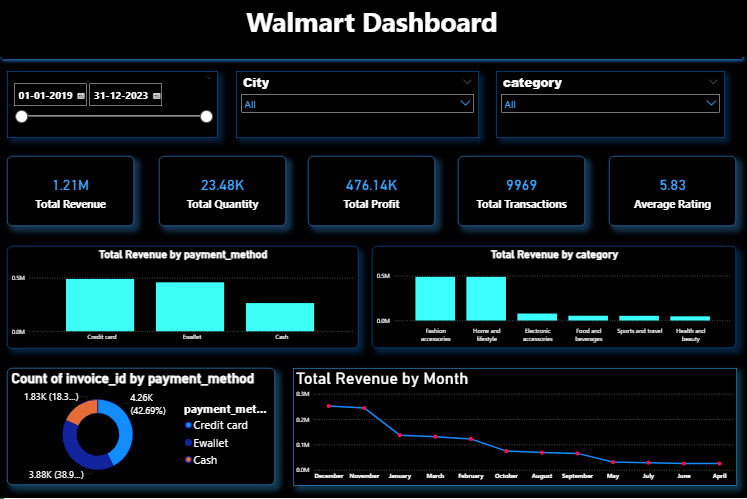

Layout of this report page (visuals, bound fields, positions):
{"tool":"powerbi","page":{"name":"Page 1","canvas":[1700,1200],"ordinal":0},"visuals":[{"type":"shape","box":[0,0,1500,128],"z":0},{"type":"textbox","box":[0,0,1500,114.2],"z":1000},{"type":"card","fields":{"Values":["walmartproject1.Total Quantity"]},"box":[324.8,311,253.9,139.8],"z":2000},{"type":"card","fields":{"Values":["walmartproject1.Total Profit"]},"box":[622,311,253.9,139.8],"z":3000},{"type":"card","fields":{"Values":["walmartproject1.Total Transactions"]},"box":[921.3,311,253.9,139.8],"z":4000},{"type":"card","fields":{"Values":["walmartproject1.Average Rating"]},"box":[1224.4,311,253.9,139.8],"z":5000},{"type":"card","fields":{"Values":["walmartproject1.Total Revenue"]},"box":[19.7,311,253.9,139.8],"z":6000},{"type":"slicer","fields":{"Values":["walmartproject1.City"]},"box":[478.3,141.7,486.2,133.9],"z":7000},{"type":"slicer","fields":{"Values":["walmartproject1.date"]},"box":[19.7,141.7,421.3,133.9],"z":8000},{"type":"slicer","fields":{"Values":["walmartproject1.category"]},"box":[997.5,142.5,457.5,132.5],"z":9000},{"type":"columnChart","fields":{"Category":["walmartproject1.payment_method"],"Y":["walmartproject1.Total Revenue"]},"box":[19.7,492.1,702.8,204.7],"z":10000},{"type":"columnChart","fields":{"Y":["walmartproject1.Total Revenue"],"Category":["walmartproject1.category"]},"box":[750,492,728,204],"z":10001},{"type":"donutChart","fields":{"Category":["walmartproject1.payment_method"],"Y":["CountNonNull(walmartproject1.invoice_id)"]},"box":[20,736,536,234],"z":10003},{"type":"lineChart","fields":{"Category":["walmartproject1.Month"],"Y":["walmartproject1.Total Revenue"]},"box":[592.5,735,887.5,235],"z":10004}]}

Visuals, with their boxes on the page's 1700x1200 design canvas (x1, y1, x2, y2). These are canvas units, not pixel positions in the 747x499 screenshot, which may show the page scaled, cropped or inside an application window:
shape: left=0, top=0, right=1500, bottom=128
textbox: left=0, top=0, right=1500, bottom=114
card - walmartproject1.Total Quantity: left=325, top=311, right=579, bottom=451
card - walmartproject1.Total Profit: left=622, top=311, right=876, bottom=451
card - walmartproject1.Total Transactions: left=921, top=311, right=1175, bottom=451
card - walmartproject1.Average Rating: left=1224, top=311, right=1478, bottom=451
card - walmartproject1.Total Revenue: left=20, top=311, right=274, bottom=451
slicer - walmartproject1.City: left=478, top=142, right=964, bottom=276
slicer - walmartproject1.date: left=20, top=142, right=441, bottom=276
slicer - walmartproject1.category: left=998, top=142, right=1455, bottom=275
columnChart - walmartproject1.payment_method x walmartproject1.Total Revenue: left=20, top=492, right=722, bottom=697
columnChart - walmartproject1.Total Revenue x walmartproject1.category: left=750, top=492, right=1478, bottom=696
donutChart - walmartproject1.payment_method x CountNonNull(walmartproject1.invoice_id): left=20, top=736, right=556, bottom=970
lineChart - walmartproject1.Month x walmartproject1.Total Revenue: left=592, top=735, right=1480, bottom=970
